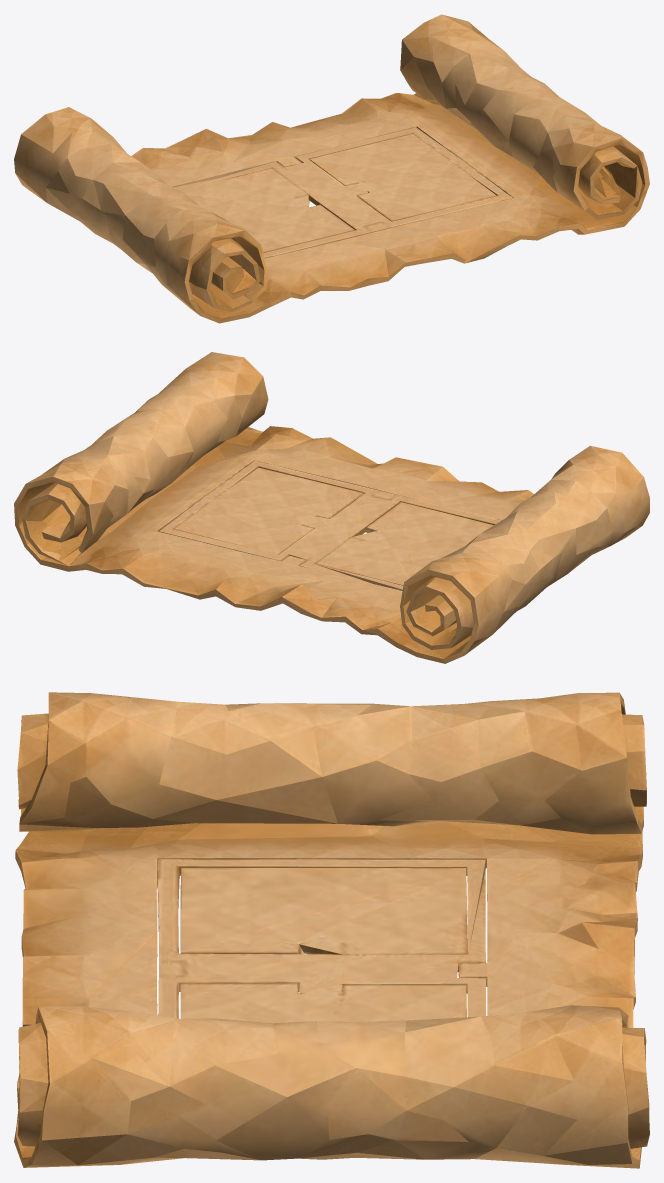
File: temple-plan.glb
3 views of the same model, one above another, from view 1: azimuth 30°, elevation 25°; view 2: azimuth 150°, elevation 25°; view 3: azimuth 270°, elevation 25° (orthographic). The views are drawn at different scales.
Size of the model in its own units: 1.9 by 0.3386 by 1.33.
Materials: 1 (1 with a texture image).
